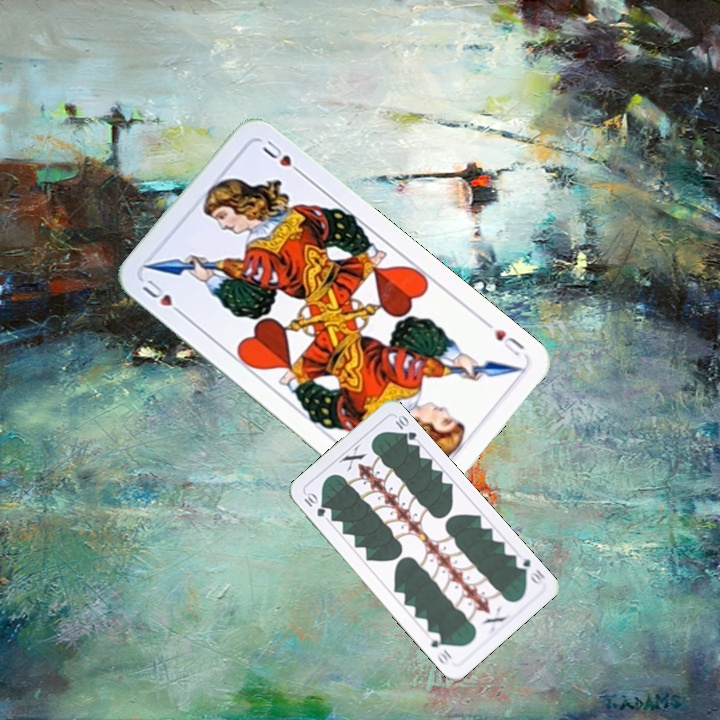G10: (511, 551, 547, 587), (300, 489, 328, 520)
HU: (138, 275, 188, 320), (490, 325, 527, 359)
